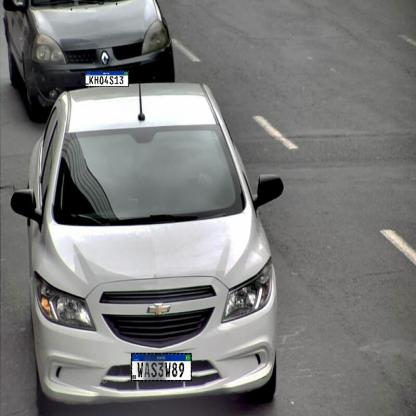PlacaM: (131, 353, 192, 381), (85, 70, 129, 86)
